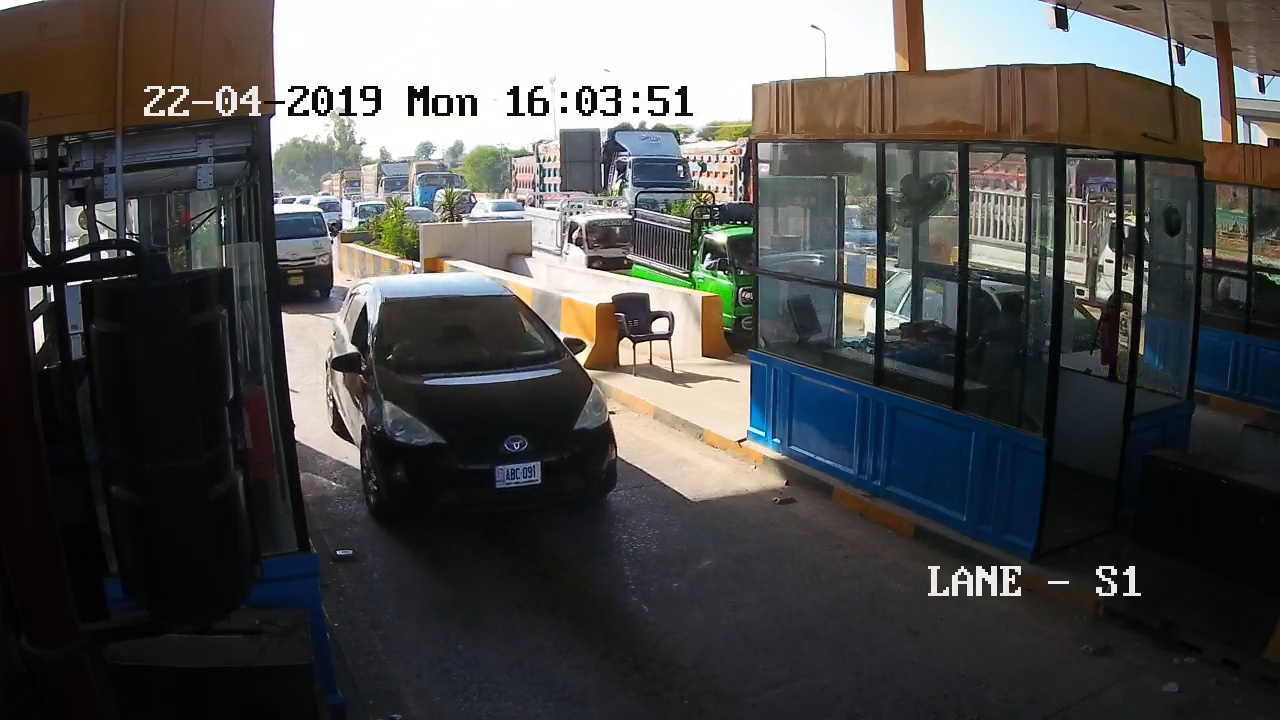Number Plate (Car): (491, 460, 544, 485)
